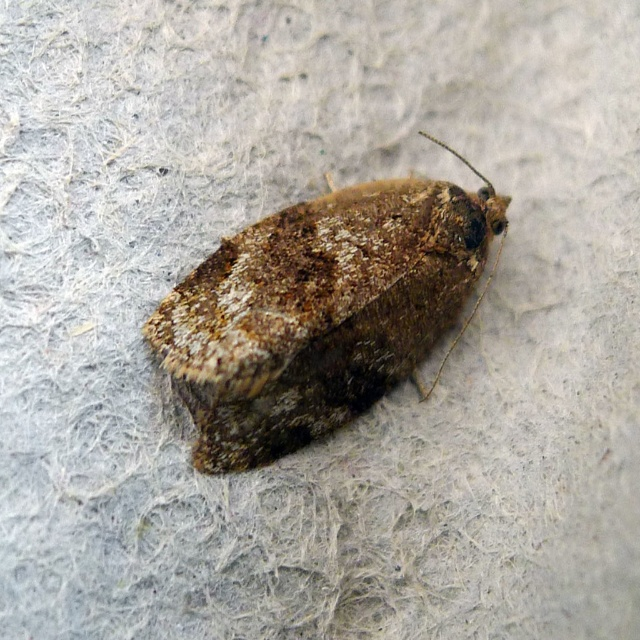Moths and butterflies: (140, 124, 517, 482)
